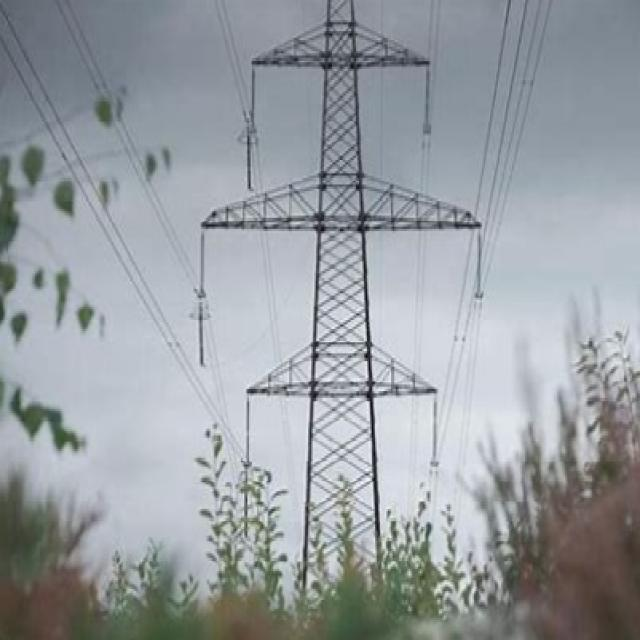utility poles: (208, 339, 450, 640)
